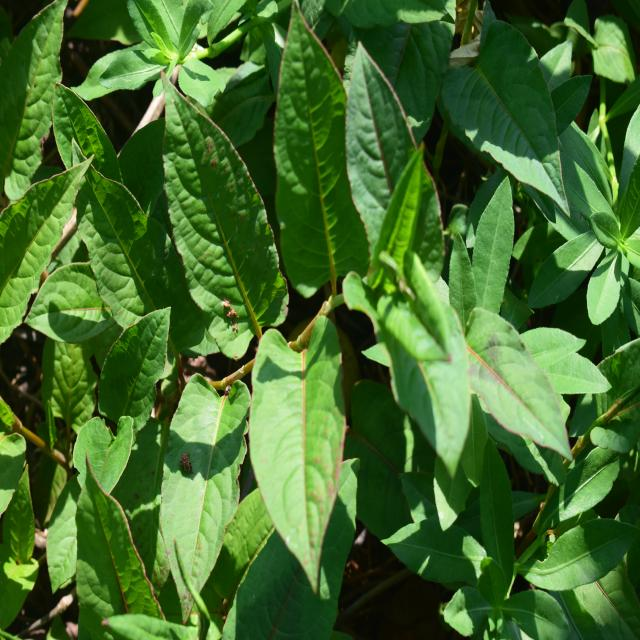Chinese_knotweed: (175, 42, 534, 494)
